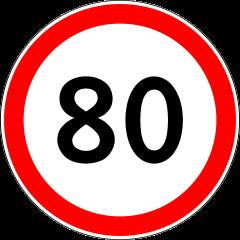Speed Limit -80-: (47, 68, 187, 172)
